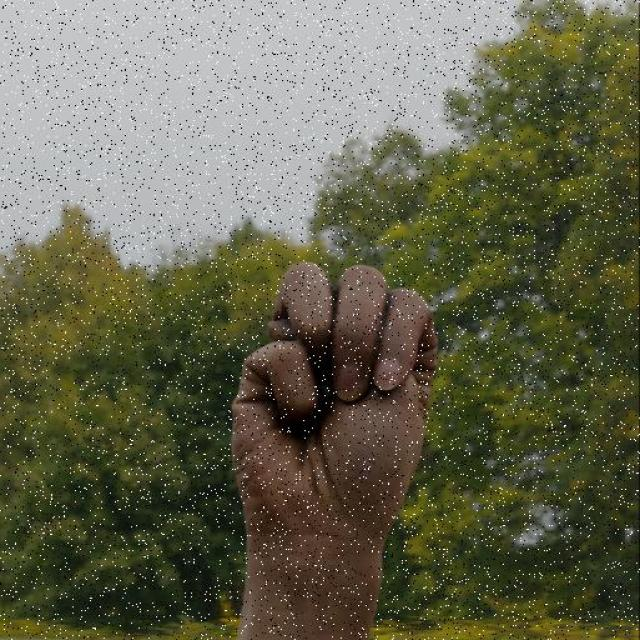M: (228, 259, 442, 549)
